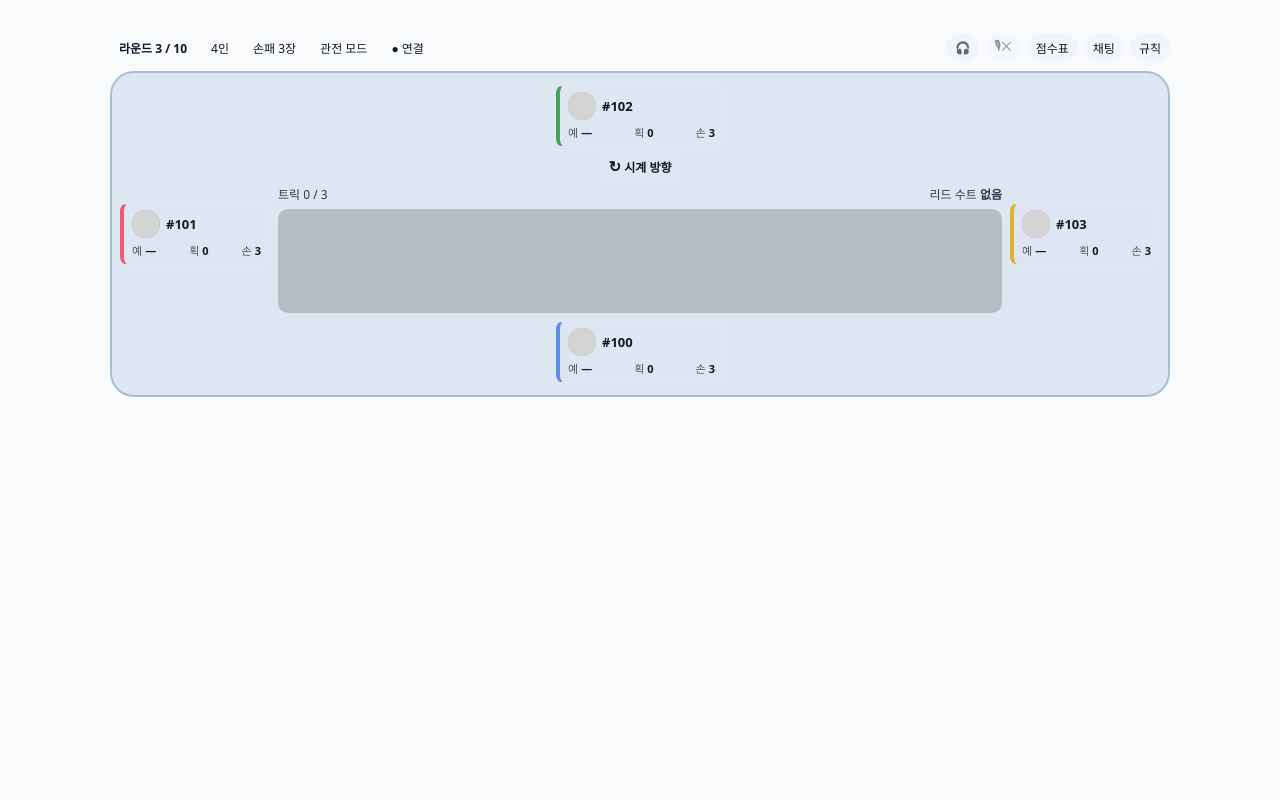
Scenario: 규칙 버튼 (D-121) › 관전자도 연다
Click the button "규칙". click: (1150, 48)
box: x1=1130 y1=34 x2=1170 y2=61
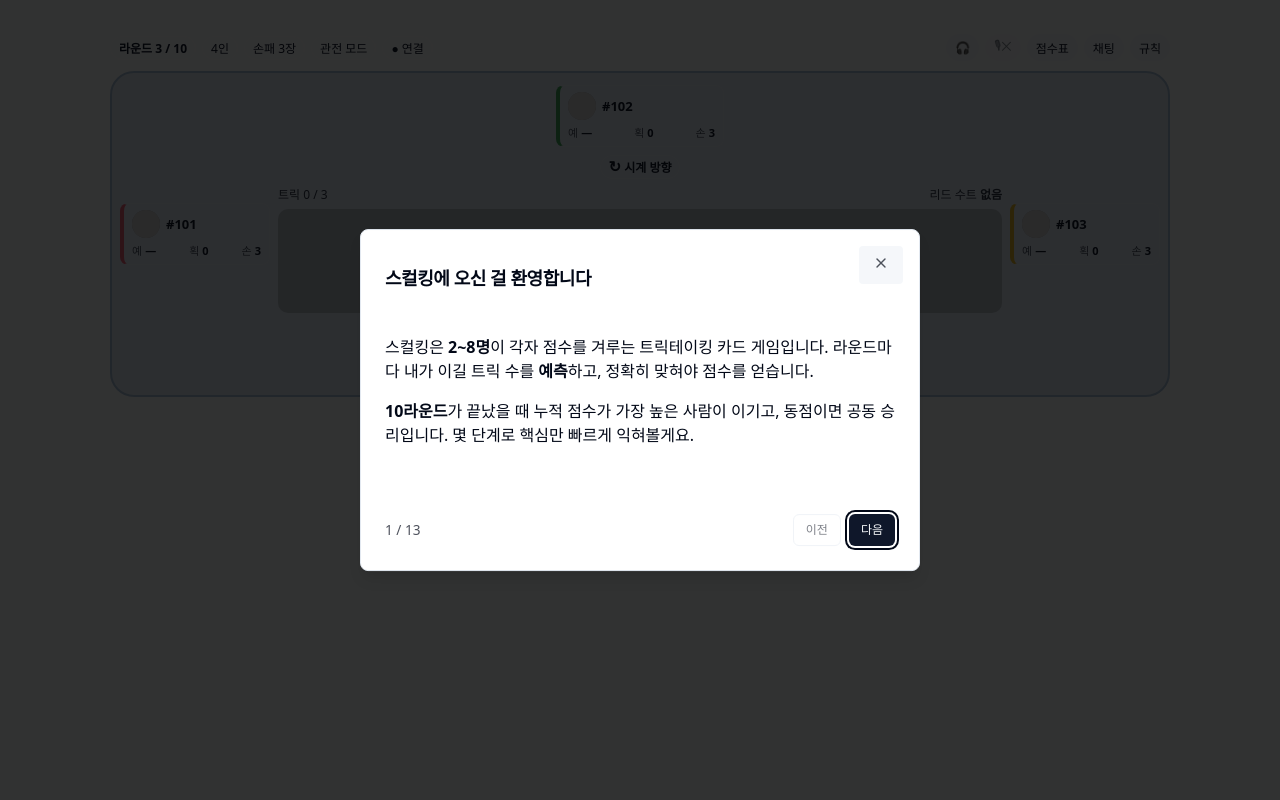
Expected: the dialog is shown, x1=360 y1=229 x2=920 y2=571
